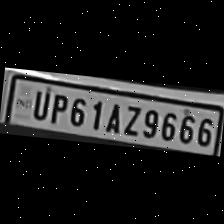1: (85, 97, 104, 131)
6: (64, 94, 88, 128), (157, 107, 177, 143), (176, 110, 196, 146), (194, 113, 214, 148)
9: (138, 104, 160, 140)
A: (102, 98, 124, 134)
P: (46, 89, 68, 125)
U: (27, 86, 50, 121)
Z: (120, 101, 141, 137)
